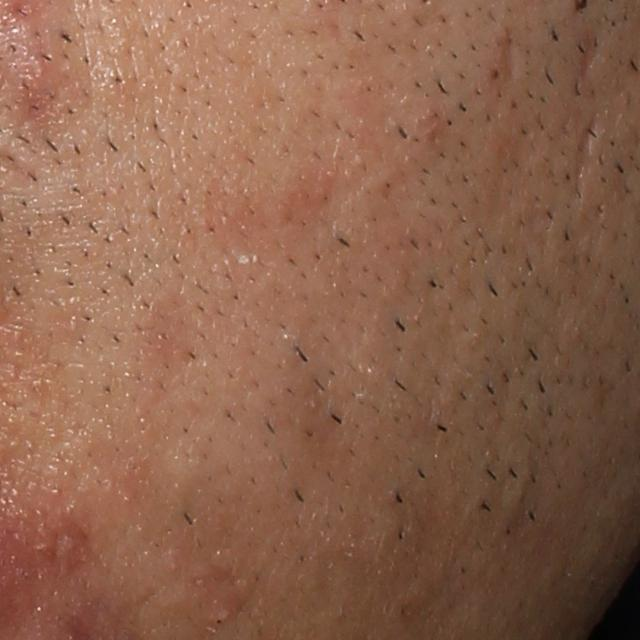atrophic_scar: (495, 31, 524, 89), (578, 41, 601, 86), (577, 118, 600, 157)
